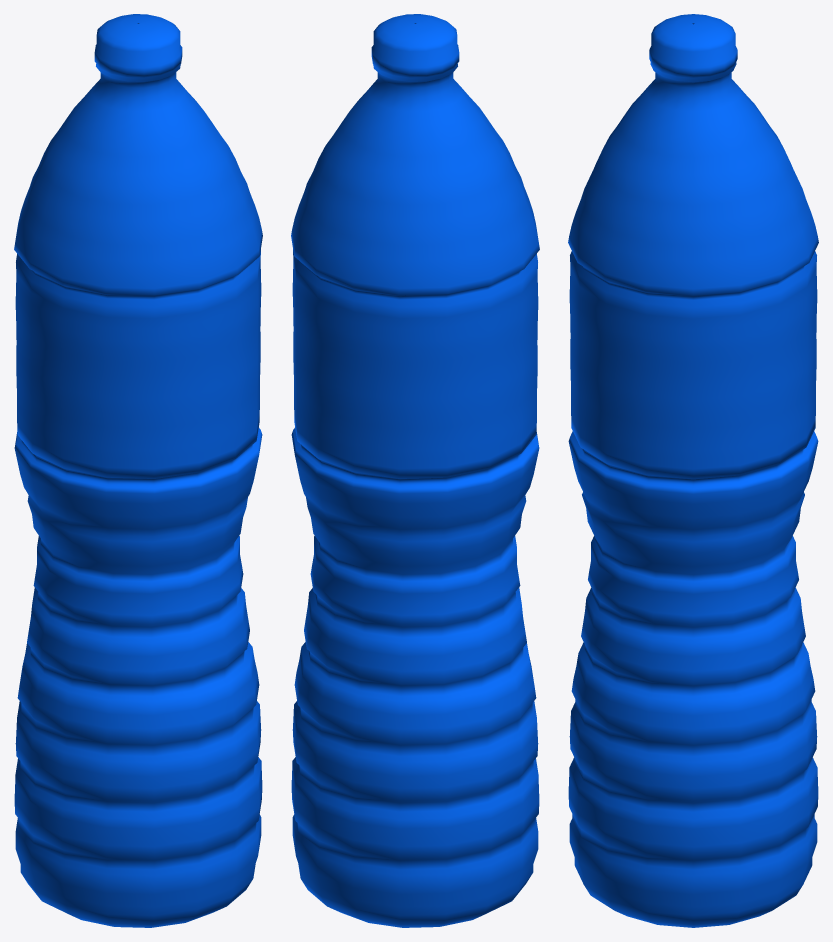
File: water_bottle.glb
3 views of the same model, side by side, from view 1: azimuth 30°, elevation 25°; view 2: azimuth 150°, elevation 25°; view 3: azimuth 270°, elevation 25° (orthographic).
Visible parts, largest first — view 1: Cube; view 2: Cube; view 3: Cube.
Part boxes in pixels (x1,y1,x2,y2): Cube: (14,14,262,927); Cube: (291,14,539,927); Cube: (568,14,818,927).
Size of the model in its own units: 0.6616 by 2.53 by 0.6616.
